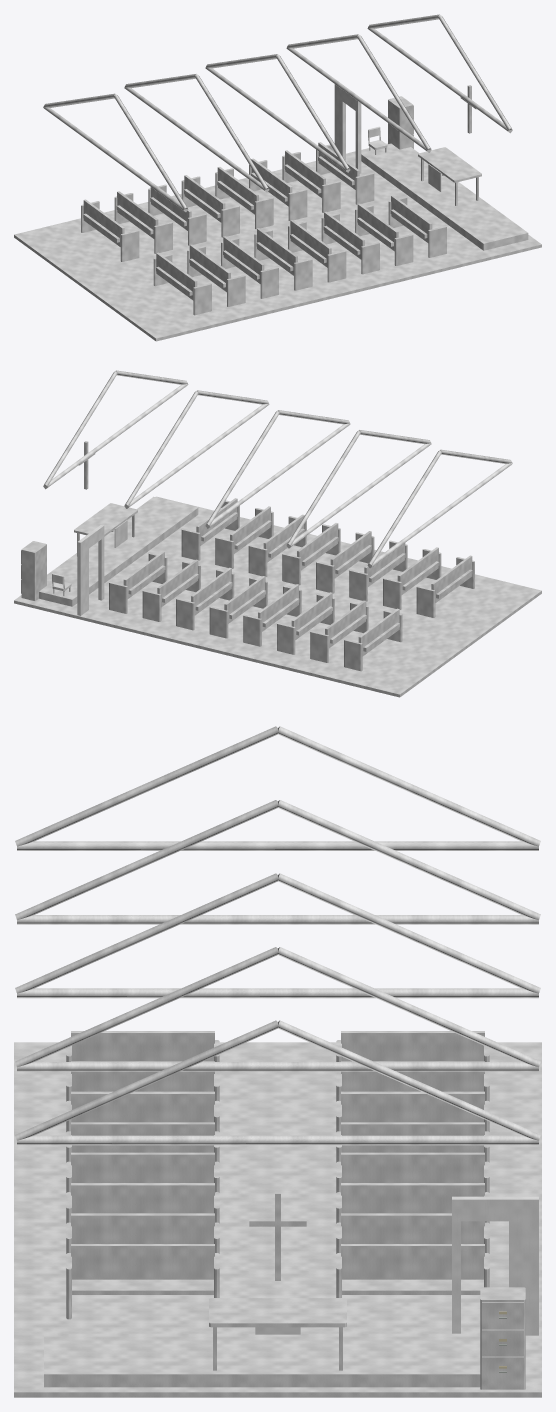
File: SM_Town_Church_Interior.glb
3 views of the same model, one above another, from view 1: azimuth 30°, elevation 25°; view 2: azimuth 150°, elevation 25°; view 3: azimuth 270°, elevation 25° (orthographic). The views are drawn at different scales.
Visible parts, largest first — view 1: SM_Town_Church_Interior; view 2: SM_Town_Church_Interior; view 3: SM_Town_Church_Interior.
Part boxes in pixels (box(x1,y1,x2,y2)): SM_Town_Church_Interior: box(14, 14, 541, 341); SM_Town_Church_Interior: box(14, 370, 541, 697); SM_Town_Church_Interior: box(14, 726, 541, 1397).
Bounding box in the file's own units: 13.81 × 6.43 × 8.8.
8 materials, 6 textured.
